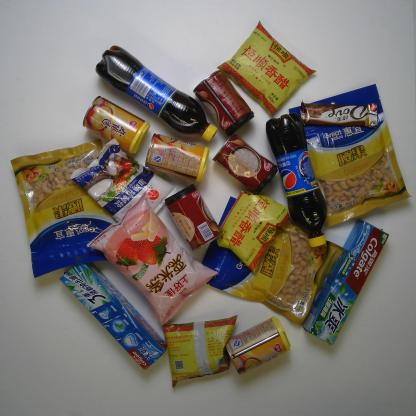Canned Food: (82, 94, 152, 155), (212, 132, 278, 196), (193, 69, 255, 137), (225, 315, 291, 377), (164, 184, 223, 252), (144, 132, 211, 183)
Chocolate: (299, 98, 379, 130)
Dried Fruit: (197, 195, 345, 328), (288, 82, 415, 230), (9, 138, 122, 280)
Drink: (94, 44, 218, 144), (266, 111, 328, 249)
Personal Hygiene: (59, 259, 168, 371), (302, 218, 390, 346)
Puffed Food: (86, 190, 219, 326)
Seasoner: (70, 137, 180, 228), (217, 19, 318, 118), (215, 190, 292, 276), (163, 314, 238, 388)
